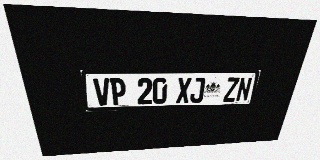0: (152, 78, 167, 104)
2: (137, 78, 152, 105)
J: (189, 77, 206, 103)
N: (235, 77, 253, 102)
P: (109, 78, 126, 105)
V: (93, 78, 111, 106)
X: (176, 77, 192, 103)
Z: (223, 77, 240, 102)
